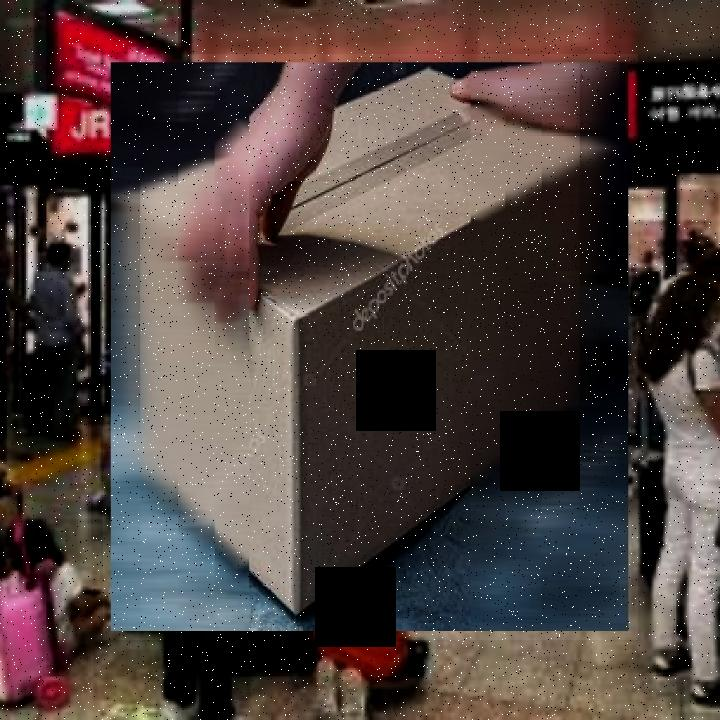box: (103, 54, 638, 640)
